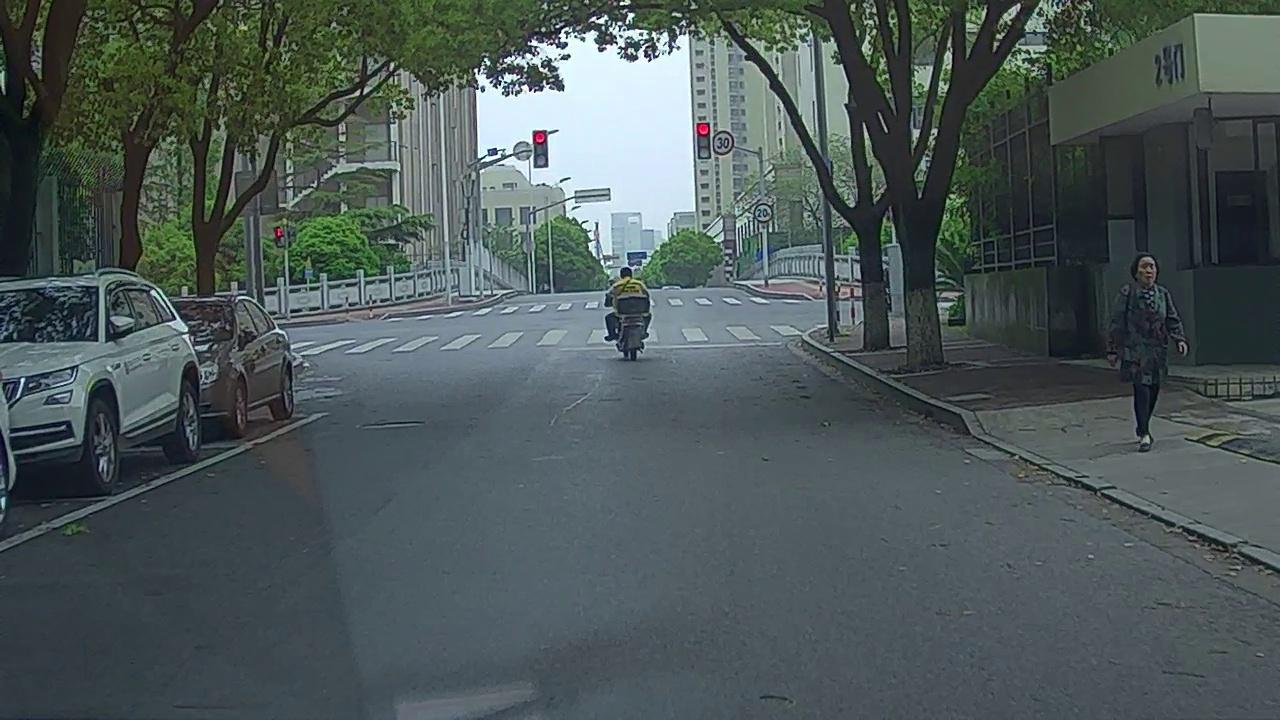traffic_light: (532, 130, 548, 168), (696, 124, 711, 158)
